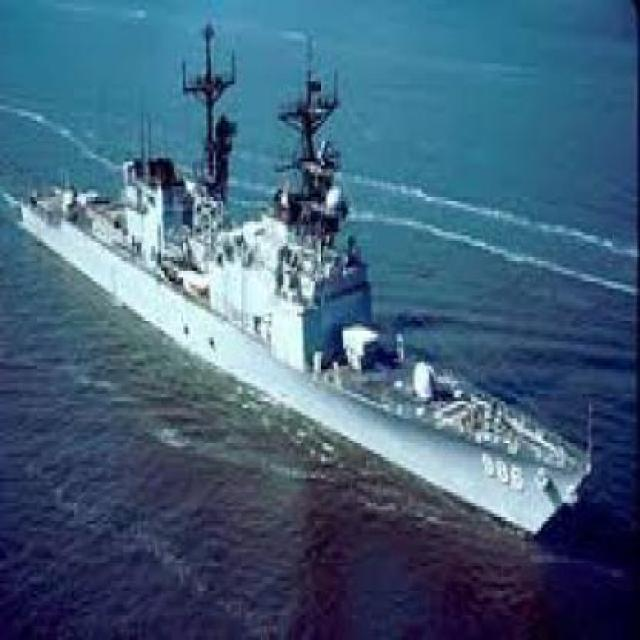warship2: (8, 57, 606, 557)
